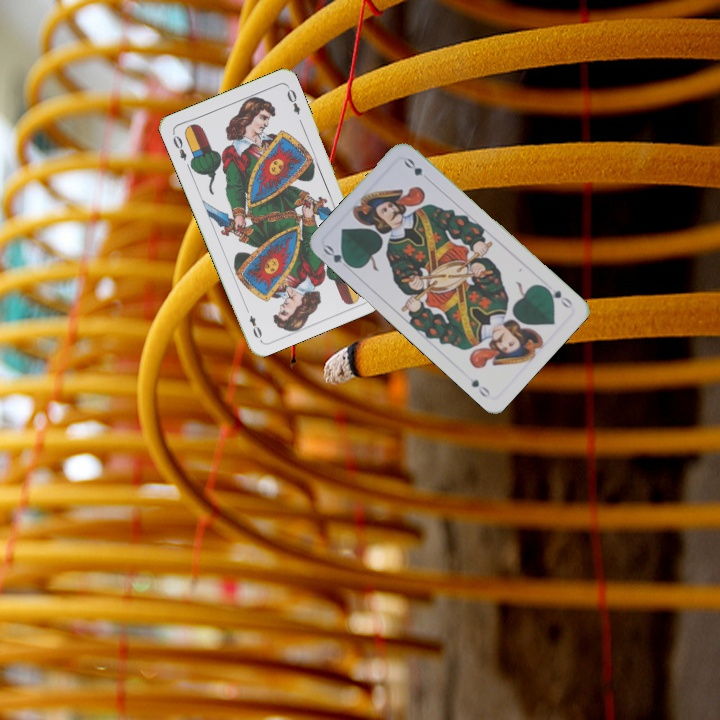EO: (169, 131, 190, 163)
GO: (319, 241, 356, 274), (540, 282, 575, 311)
